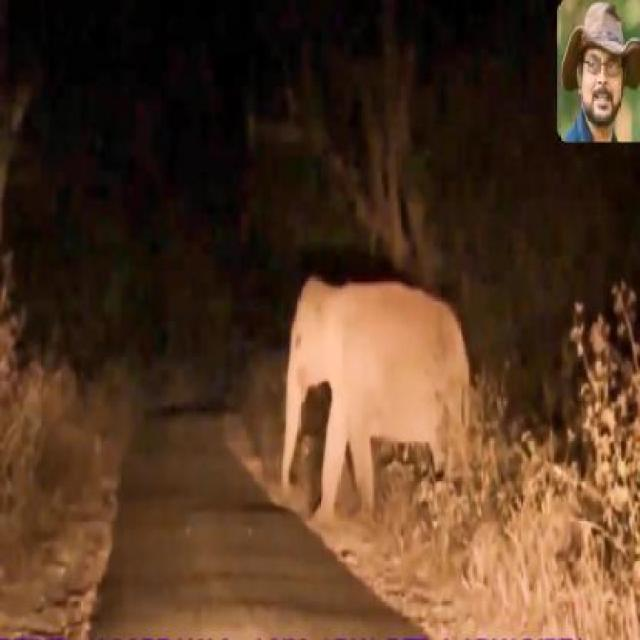Elephant: (279, 265, 478, 523)
